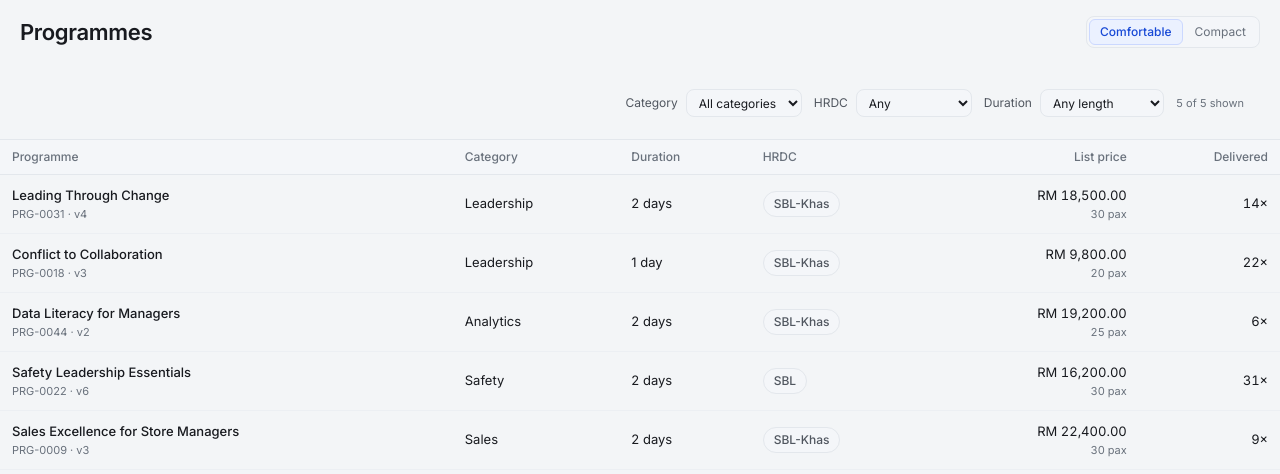
Scenario: M06 · programmes list › lists the catalogue and narrows it with the duration facet
Expected: the text "Leading Through Change" is shown, [12, 187, 170, 203]
Expected: the text "Conflict to Collaboration" is shown, [12, 246, 163, 262]
Select "1 day" in the dropdown labelled "Duration": (1102, 103) [1040, 89, 1164, 117]
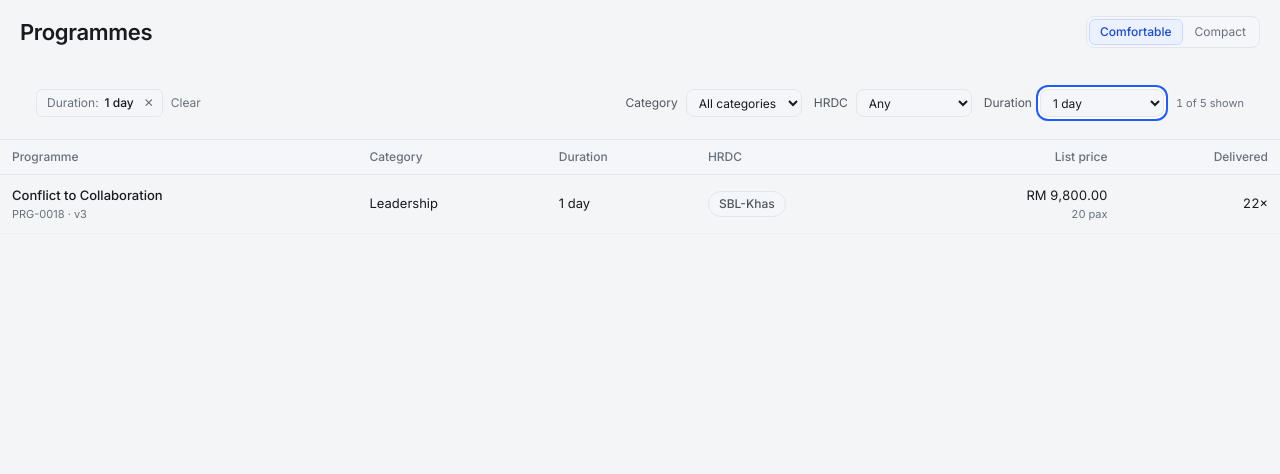
Expected: the text "Conflict to Collaboration" is shown, [12, 187, 163, 203]
Now the text "Leading Through Change" is gone
